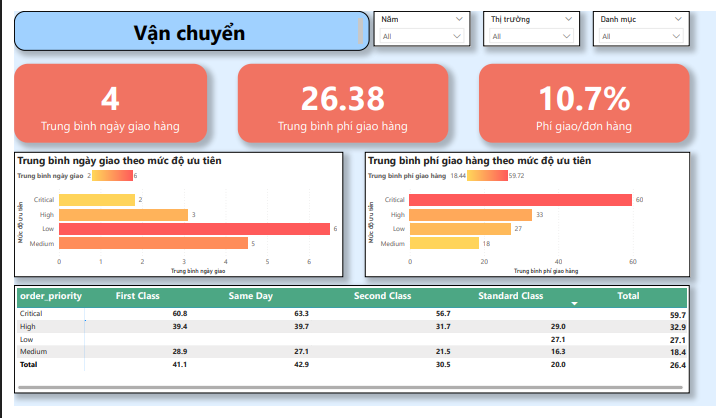

Layout of this report page (visuals, bound fields, positions):
{"tool":"powerbi","page":{"name":"Vận chuyển","canvas":[1280,720],"ordinal":2},"visuals":[{"type":"card","fields":{"Values":["_measure.Avg shipping days"]},"box":[0,96,352,144],"z":0},{"type":"card","fields":{"Values":["_measure.Avg shipping cost"]},"box":[408,96,384,144],"z":1000},{"type":"card","fields":{"Values":["_measure.Shipping cost ratio"]},"box":[848,96,384,144],"z":2000},{"type":"clusteredBarChart","title":"Trung bình ngày giao theo mức độ ưu tiên","fields":{"Category":["orders.order_priority"],"Y":["_measure.Avg shipping days"]},"box":[0,256.7,600,228.3],"z":3000},{"type":"clusteredBarChart","title":"Trung bình phí giao hàng theo mức độ ưu tiên","fields":{"Category":["orders.order_priority"],"Y":["_measure.Avg shipping cost"]},"box":[640,256.7,593.3,228.3],"z":4000},{"type":"pivotTable","fields":{"Rows":["orders.order_priority"],"Values":["_measure.Avg shipping cost"],"Columns":["orders.ship_mode"]},"box":[0,500,1231.7,196.7],"z":5000},{"type":"textbox","box":[0,0,648,72],"z":6000},{"type":"slicer","fields":{"Values":["DimDate.Year"]},"box":[656,0,176,64],"z":7000},{"type":"slicer","fields":{"Values":["orders.market"]},"box":[856,0,176,64],"z":8000},{"type":"slicer","fields":{"Values":["orders.category"]},"box":[1056,0,176,64],"z":9000}]}

Visuals, with their boxes in screenshot pixels (x1, y1, x2, y2), scaled from the page's 1280x720 canvas onto the 728x418 screenshot:
card - _measure.Avg shipping days: rect(0, 56, 200, 139)
card - _measure.Avg shipping cost: rect(232, 56, 450, 139)
card - _measure.Shipping cost ratio: rect(482, 56, 701, 139)
"Trung bình ngày giao theo mức độ ưu tiên" clusteredBarChart: rect(0, 149, 341, 282)
"Trung bình phí giao hàng theo mức độ ưu tiên" clusteredBarChart: rect(364, 149, 701, 282)
pivotTable - orders.order_priority x _measure.Avg shipping cost: rect(0, 290, 701, 404)
textbox: rect(0, 0, 369, 42)
slicer - DimDate.Year: rect(373, 0, 473, 37)
slicer - orders.market: rect(487, 0, 587, 37)
slicer - orders.category: rect(601, 0, 701, 37)
